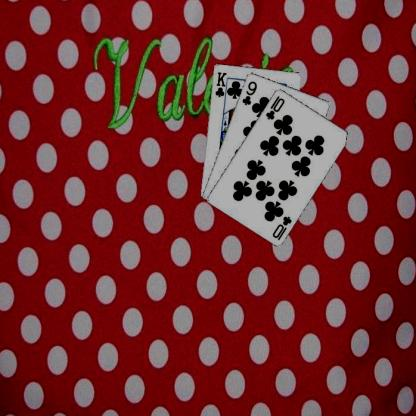10C: (263, 93, 286, 120), (270, 214, 292, 242)
9C: (240, 78, 258, 107)
KC: (213, 70, 229, 101)
